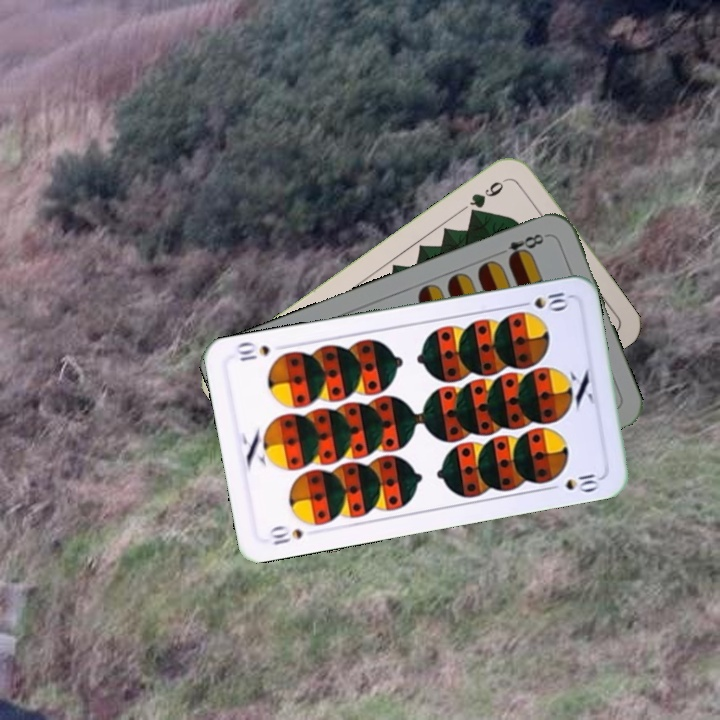E8: (493, 229, 550, 264)
G9: (465, 174, 511, 219)
S10: (513, 288, 573, 312), (265, 522, 307, 548)
